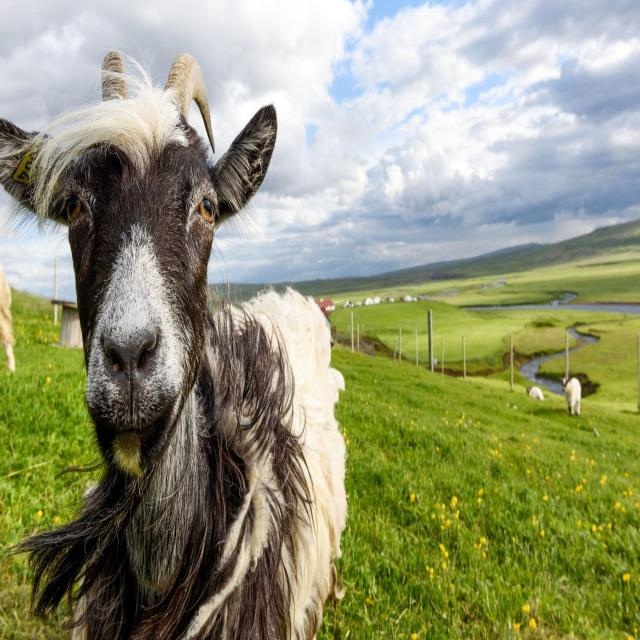Goat: (0, 47, 349, 640)
